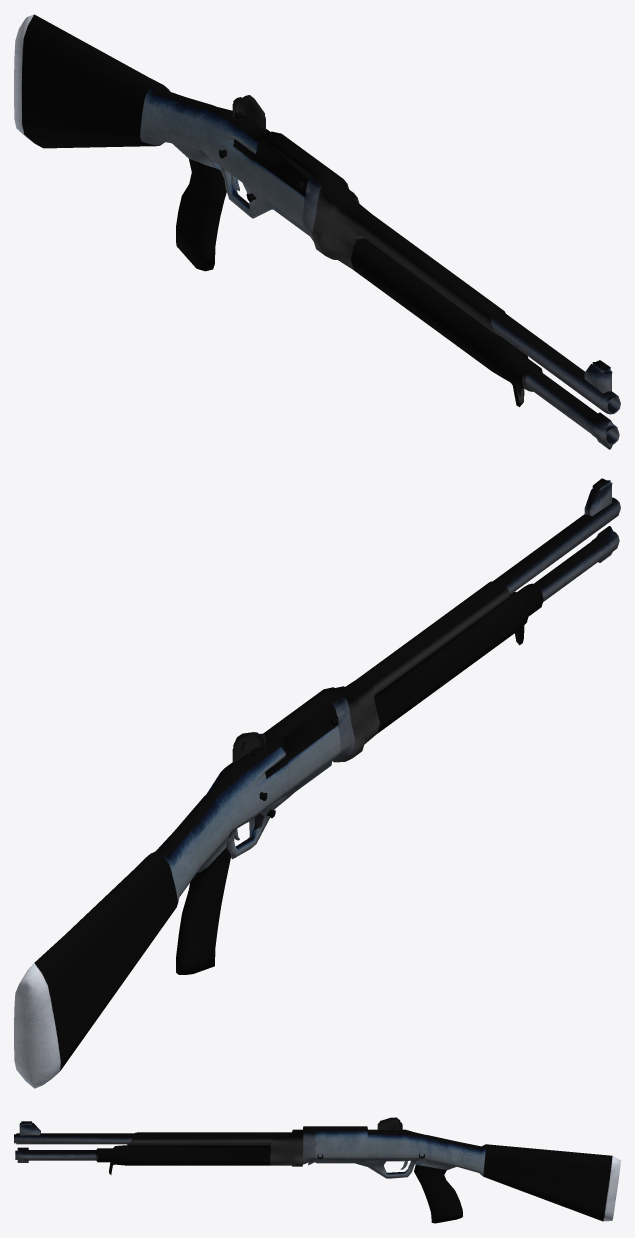
The model's file is pump-shotgun.glb.
3 renders of one model, top to bottom at view 1: azimuth 30°, elevation 25°; view 2: azimuth 150°, elevation 25°; view 3: azimuth 270°, elevation 25°, orthographic. The views are drawn at different scales.
Parts seen in each view (by area): view 1: shotgun2; view 2: shotgun2; view 3: shotgun2.
Part boxes in pixels (x1,y1,x2,y2): shotgun2: (14,14,620,449); shotgun2: (14,478,620,1088); shotgun2: (14,1117,620,1223).
Size of the model in its own units: 0.2996 by 1.14 by 6.09.
1 material, 1 textured.
